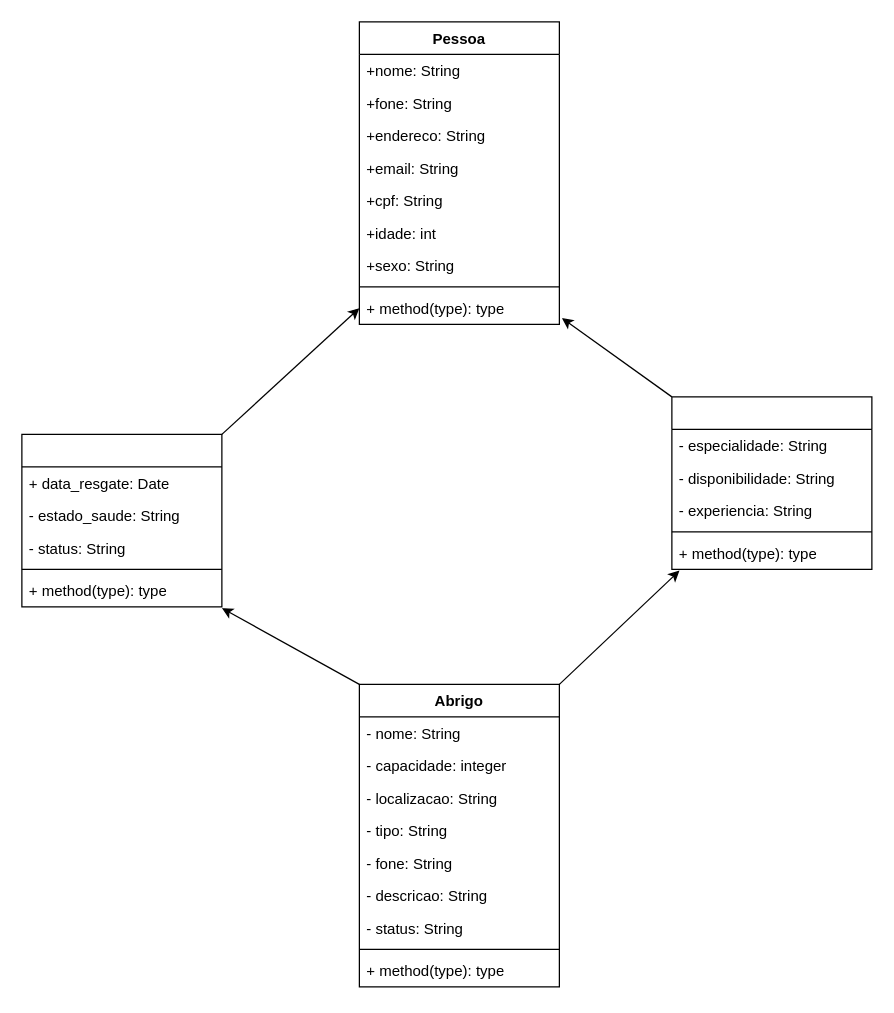
Image size: 894x1013. Some labels were removed from this diagram. Here are the shapes that lost their labels. From the top down, the box of each, then its label:
(671, 396, 872, 569): Voluntário
(21, 433, 222, 607): Vitima
